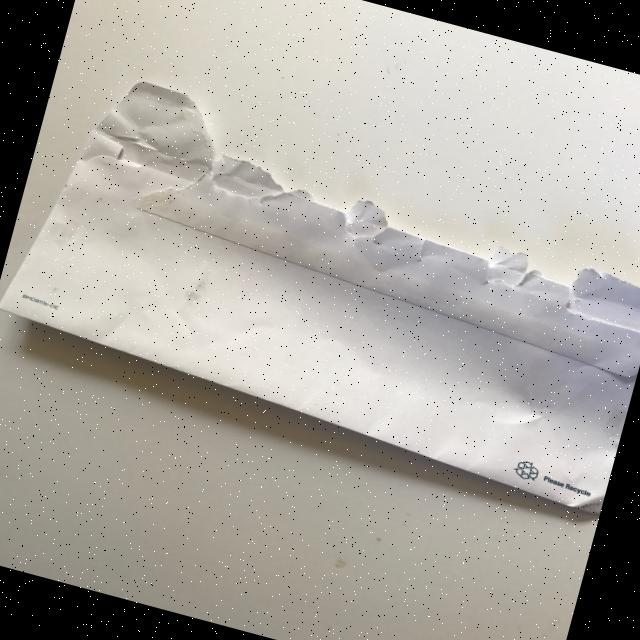paper: (0, 58, 640, 515)
